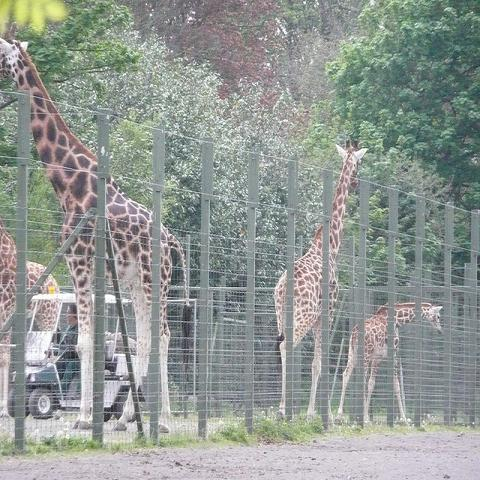car: (7, 287, 137, 423)
